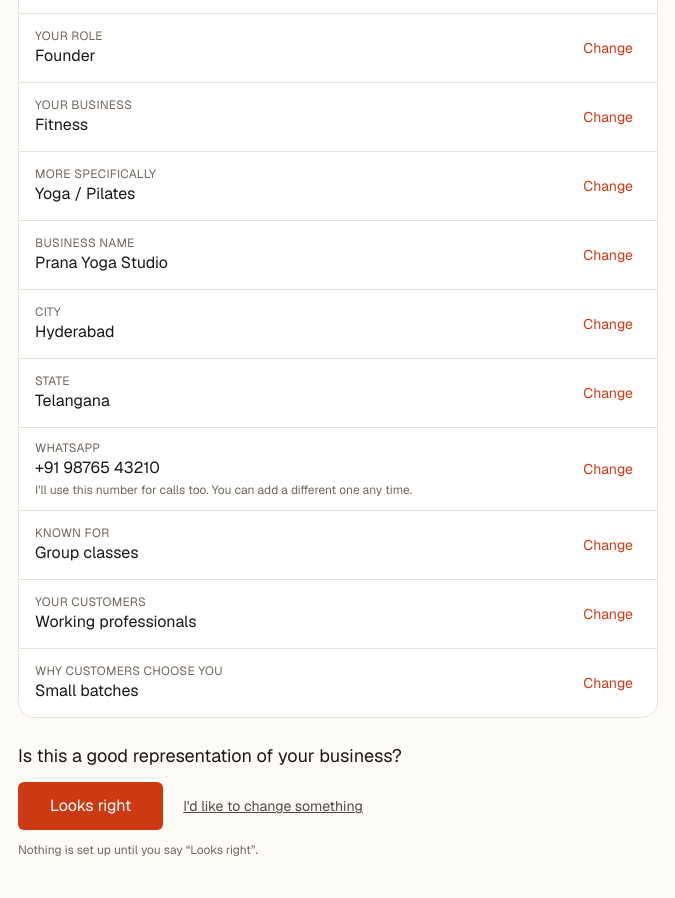
Test: review and confirm › when confirming fails › explains it in plain words, keeps the review on screen, and loses nothing
(page scrolled)
Click the button "Looks right" at (91, 806), box [18,782,163,830]
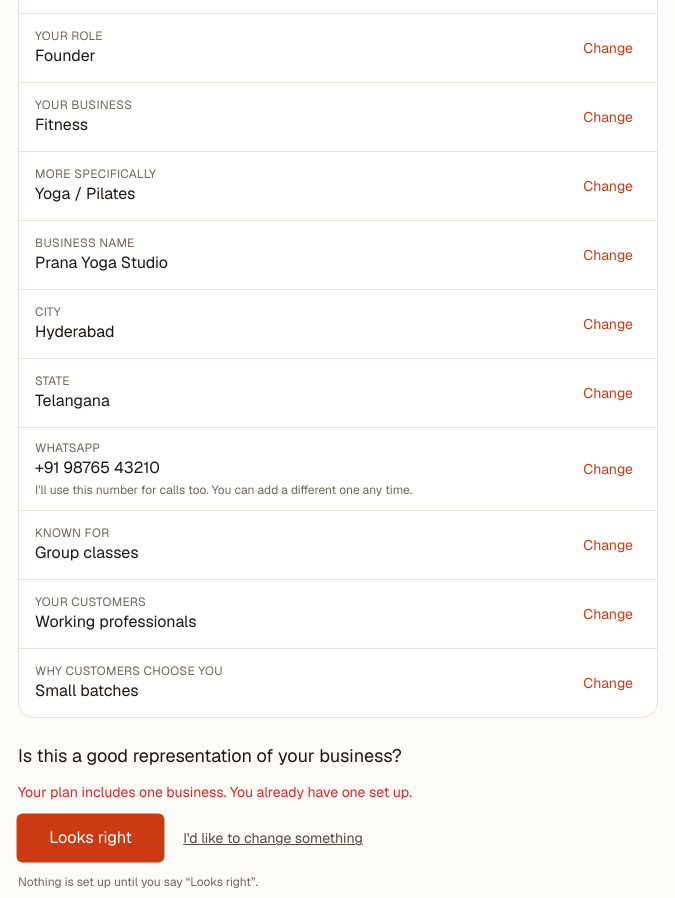
Expected: the button "Looks right" is enabled, [16,814,165,863]
Now the message shows "Your plan includes one business", box [18,783,412,801]
